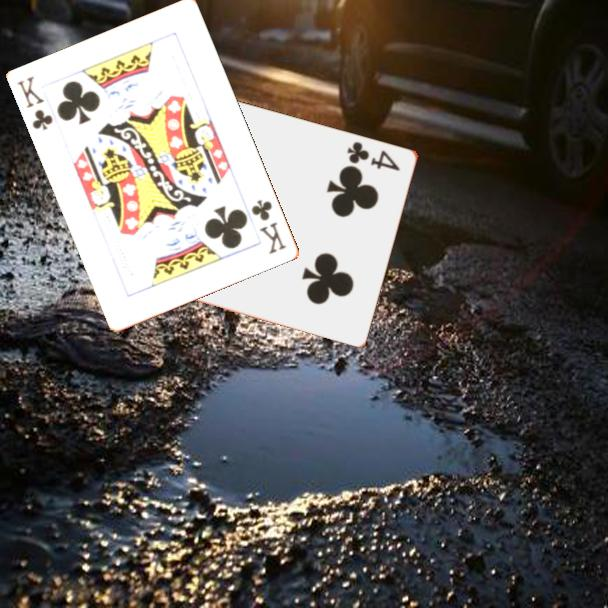c04: (344, 138, 403, 173)
c13: (248, 196, 290, 257), (14, 73, 56, 133)
